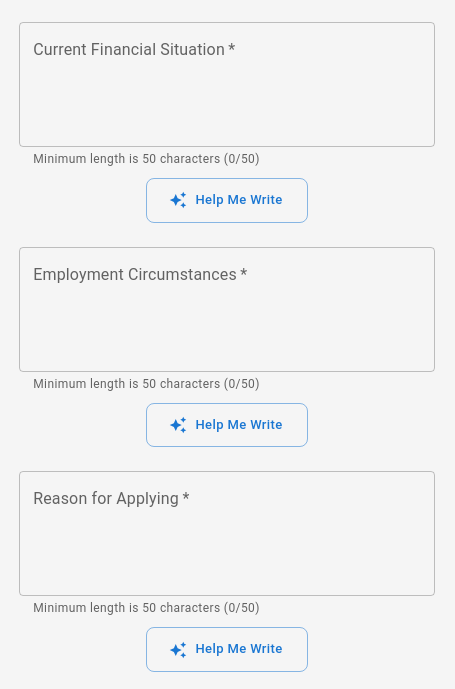
Test: Step3SituationDescriptions › Form Field Interactions › should update financialSituation field on change
Click the text box labelled "Current Financial Situation".
click(227, 84)  # box [33,38,421,130]
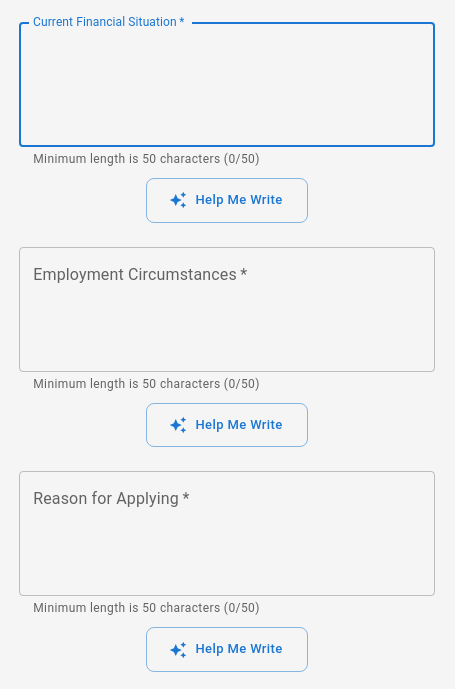
Type keys "Test financial situation"
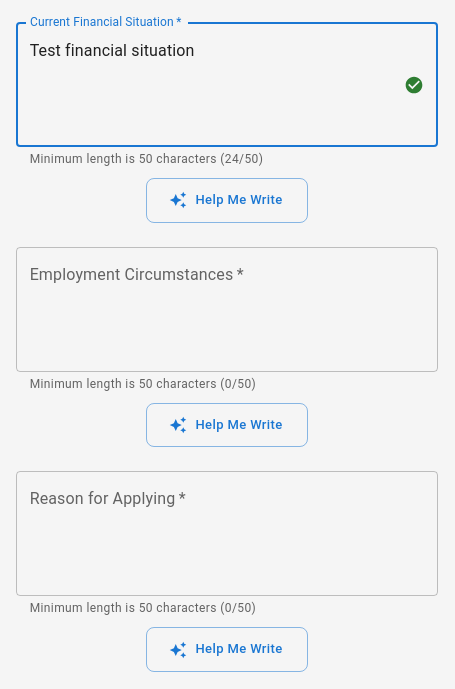
Now the text box labelled "Current Financial Situation" holds "Test financial situation", box [30,38,396,130]
